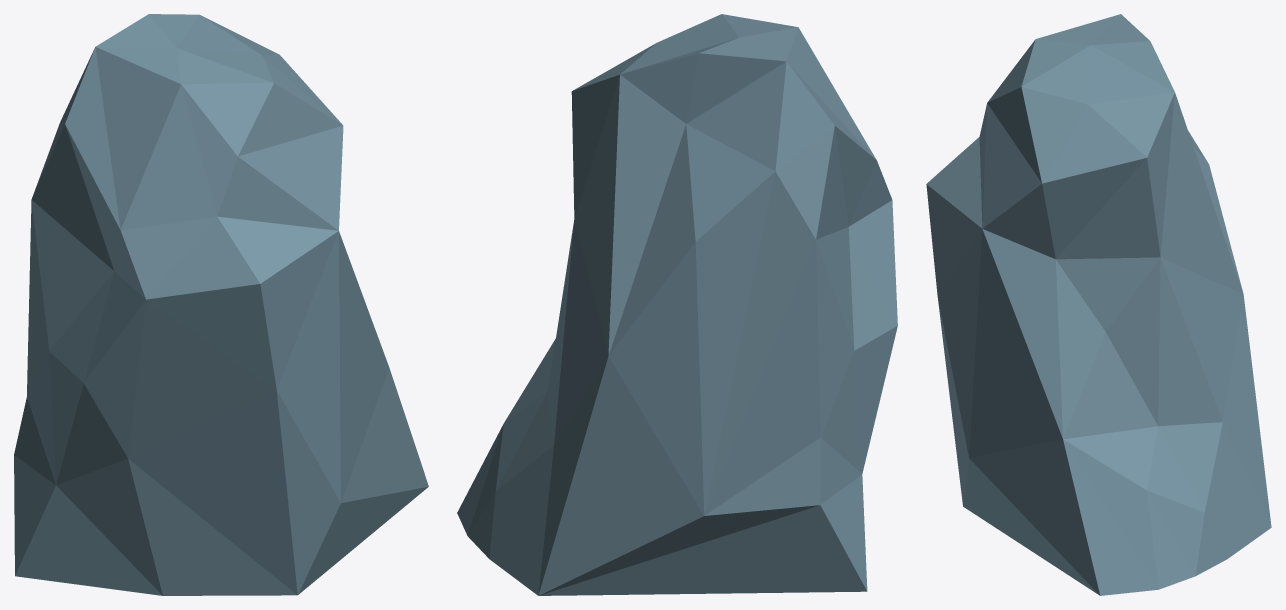
Rendered from RH_Rock06.fbx.
The picture shows the model from 3 angles, left to right: view 1: azimuth 30°, elevation 25°; view 2: azimuth 150°, elevation 25°; view 3: azimuth 270°, elevation 25°; orthographic projection. The views are drawn at different scales.
Visible parts, largest first — view 1: RH_Rock06; view 2: RH_Rock06; view 3: RH_Rock06.
Part boxes in pixels (bbox=[...]): RH_Rock06: bbox=[14, 14, 428, 595]; RH_Rock06: bbox=[457, 14, 897, 595]; RH_Rock06: bbox=[926, 14, 1271, 595].
Size of the model in its own units: 95.46 by 116 by 81.28.
Materials: 1 (1 with a texture image).
